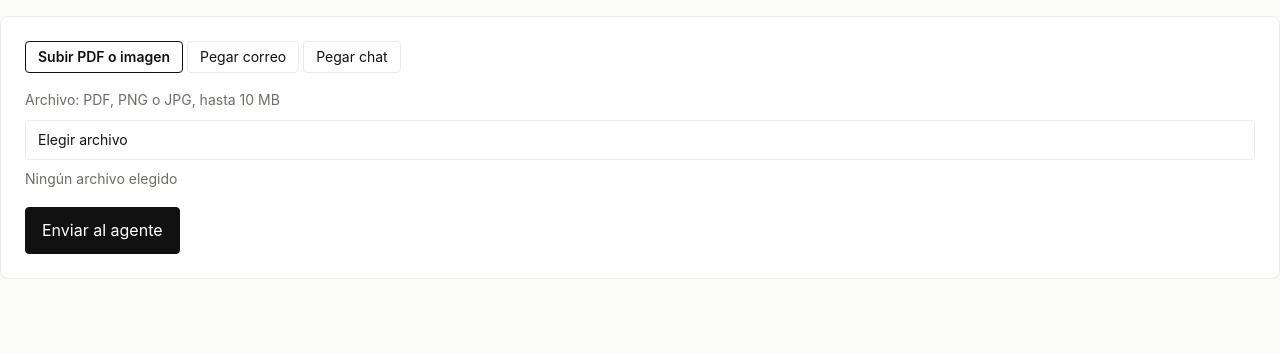
Test: sending with no file chosen asks for a file, in the app language, and posts nothing (UX-20)
Click the button "Enviar al agente".
click(102, 230)  # box 25,207 -> 180,254
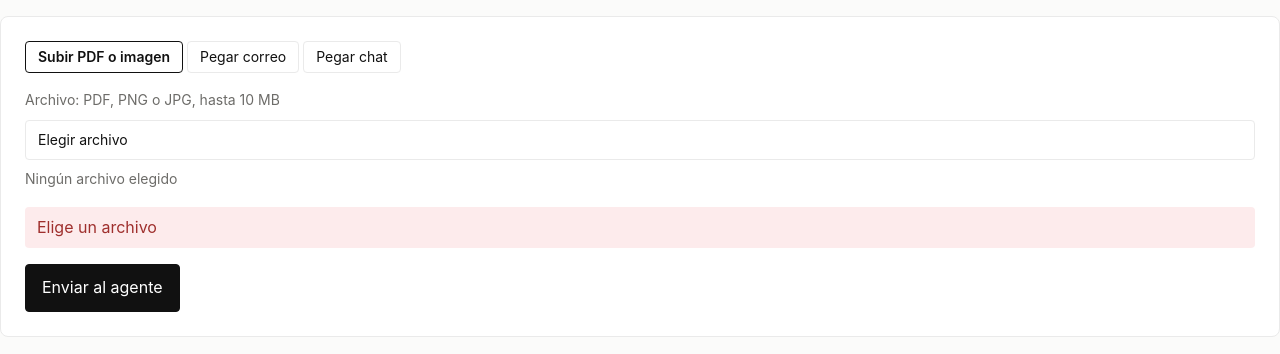
Now the message reads "Elige un archivo", box 37,217 -> 157,237
